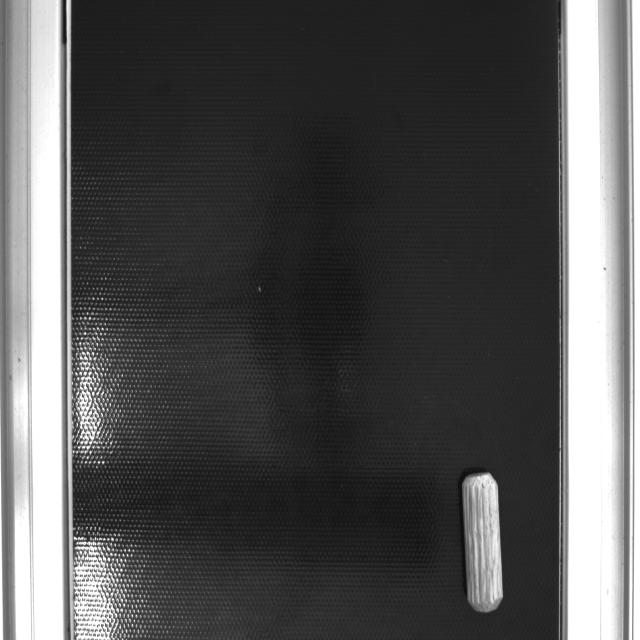Chot go: (461, 472, 504, 612)
